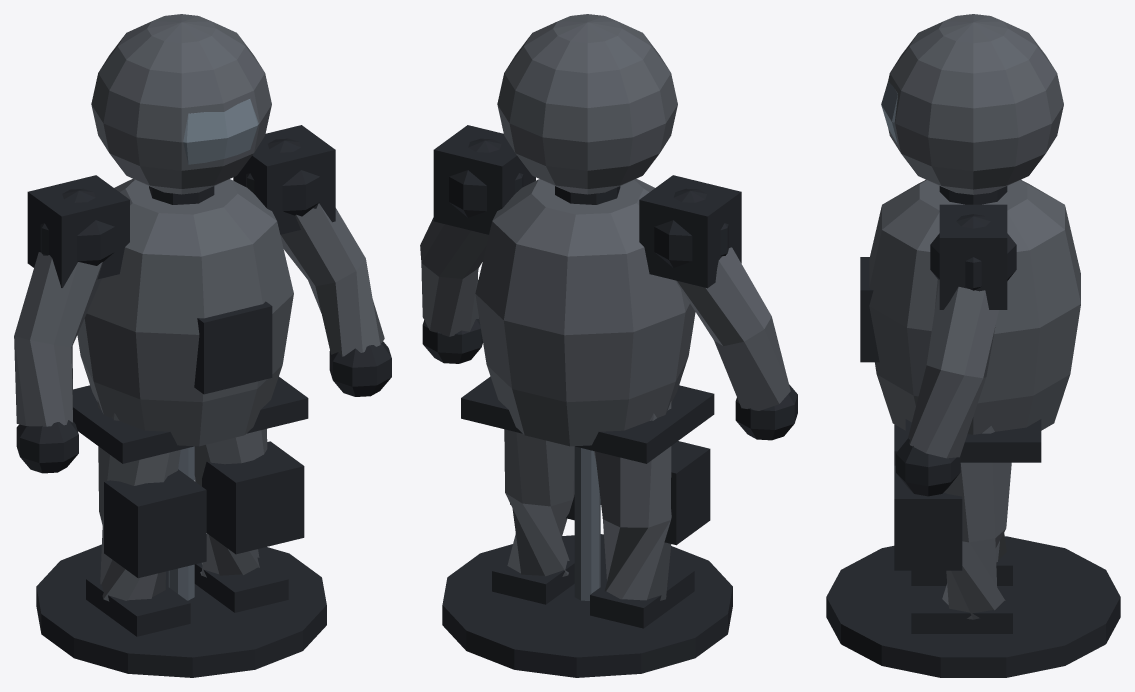
File: dampening-suit.glb
3 views of the same model, side by side, from view 1: azimuth 30°, elevation 25°; view 2: azimuth 150°, elevation 25°; view 3: azimuth 270°, elevation 25° (orthographic).
Parts seen in each view (by area): view 1: m; view 2: m; view 3: m.
Part boxes in pixels (box(x1,y1,x2,y2)): m: box(14, 14, 391, 677); m: box(420, 14, 797, 677); m: box(826, 14, 1120, 677).
Size of the model in its own units: 0.3641 by 0.56 by 0.251.
